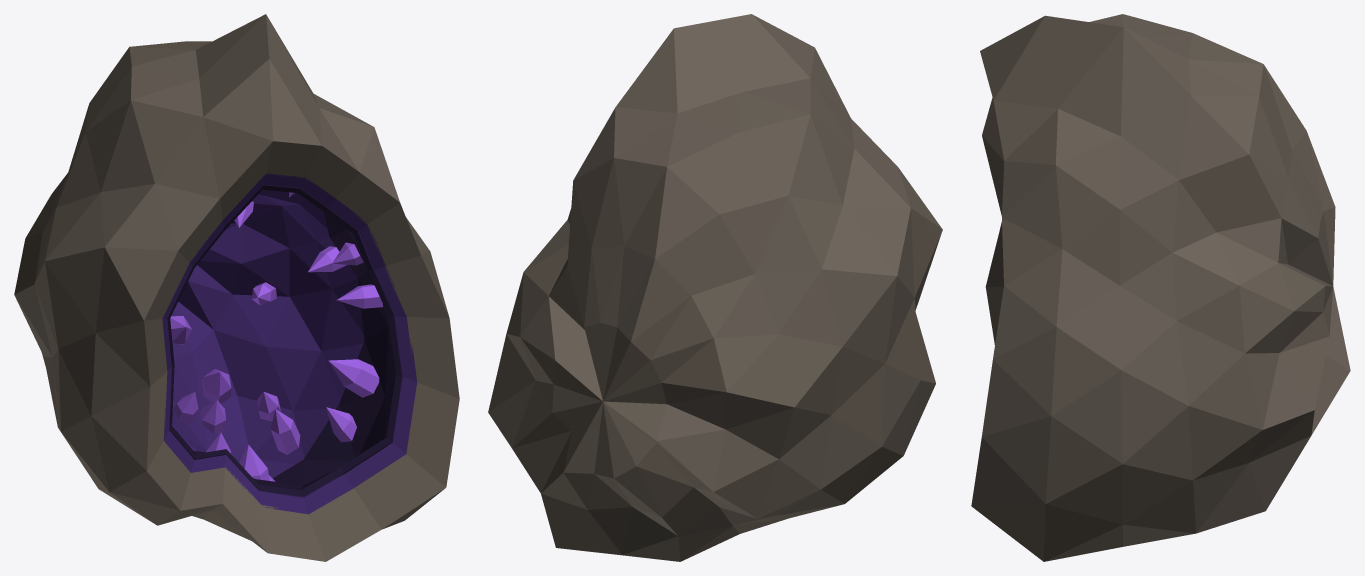
Rendered from Geode_Shell_C.fbx.
The picture shows the model from 3 angles, left to right: view 1: azimuth 30°, elevation 25°; view 2: azimuth 150°, elevation 25°; view 3: azimuth 270°, elevation 25°; orthographic projection. The views are drawn at different scales.
Parts seen in each view (by area): view 1: Shell, Lining, Shade, Druse; view 2: Shell; view 3: Shell.
Part boxes in pixels (x1=…): Shell: x1=14, y1=14, x2=459, y2=561; Lining: x1=162, y1=173, x2=417, y2=514; Shade: x1=167, y1=184, x2=401, y2=496; Druse: x1=170, y1=192, x2=383, y2=481; Shell: x1=488, y1=14, x2=942, y2=561; Shell: x1=971, y1=14, x2=1350, y2=561.
Bounding box in the file's own units: 2.28 × 2.94 × 2.07.
